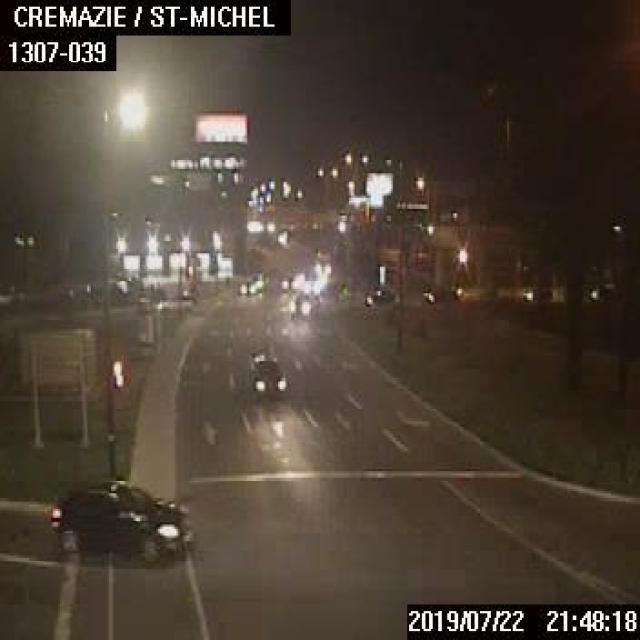vehicle: (46, 479, 192, 562), (249, 354, 287, 394), (520, 278, 565, 302), (287, 286, 318, 318), (422, 282, 462, 302), (362, 282, 393, 305), (156, 296, 192, 310), (279, 274, 296, 290), (236, 278, 255, 292)
